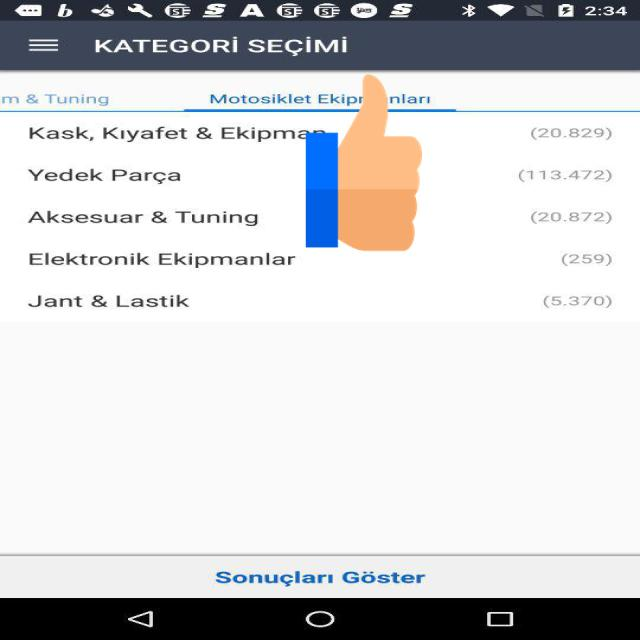privacy zuckering: (306, 70, 422, 255)
